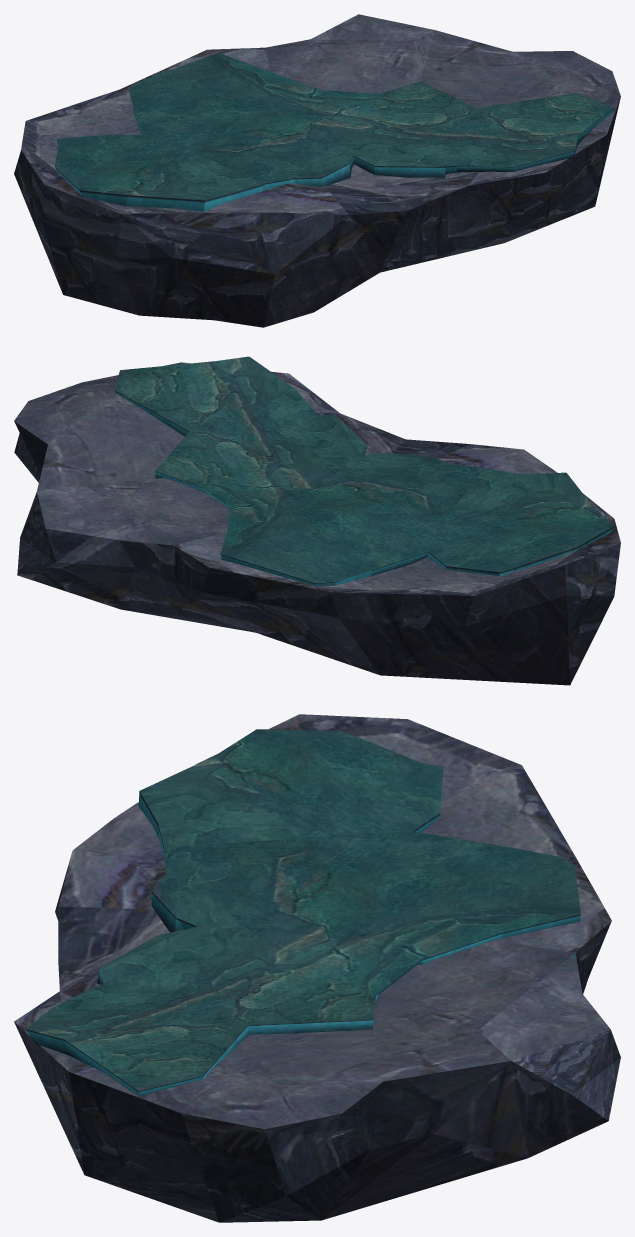
Rendered from yw_mojiediyu_fengbianshi03.FBX.
The picture shows the model from 3 angles, top to bottom: view 1: azimuth 30°, elevation 25°; view 2: azimuth 150°, elevation 25°; view 3: azimuth 270°, elevation 25°; orthographic projection. The views are drawn at different scales.
Visible parts, largest first — view 1: yw_mojiediyu_fengbianshi03; view 2: yw_mojiediyu_fengbianshi03; view 3: yw_mojiediyu_fengbianshi03.
Part boxes in pixels (box(x1,y1,x2,y2)): yw_mojiediyu_fengbianshi03: box(14, 14, 620, 327); yw_mojiediyu_fengbianshi03: box(14, 356, 620, 685); yw_mojiediyu_fengbianshi03: box(14, 714, 620, 1222).
Size of the model in its own units: 243 by 59.02 by 157.
